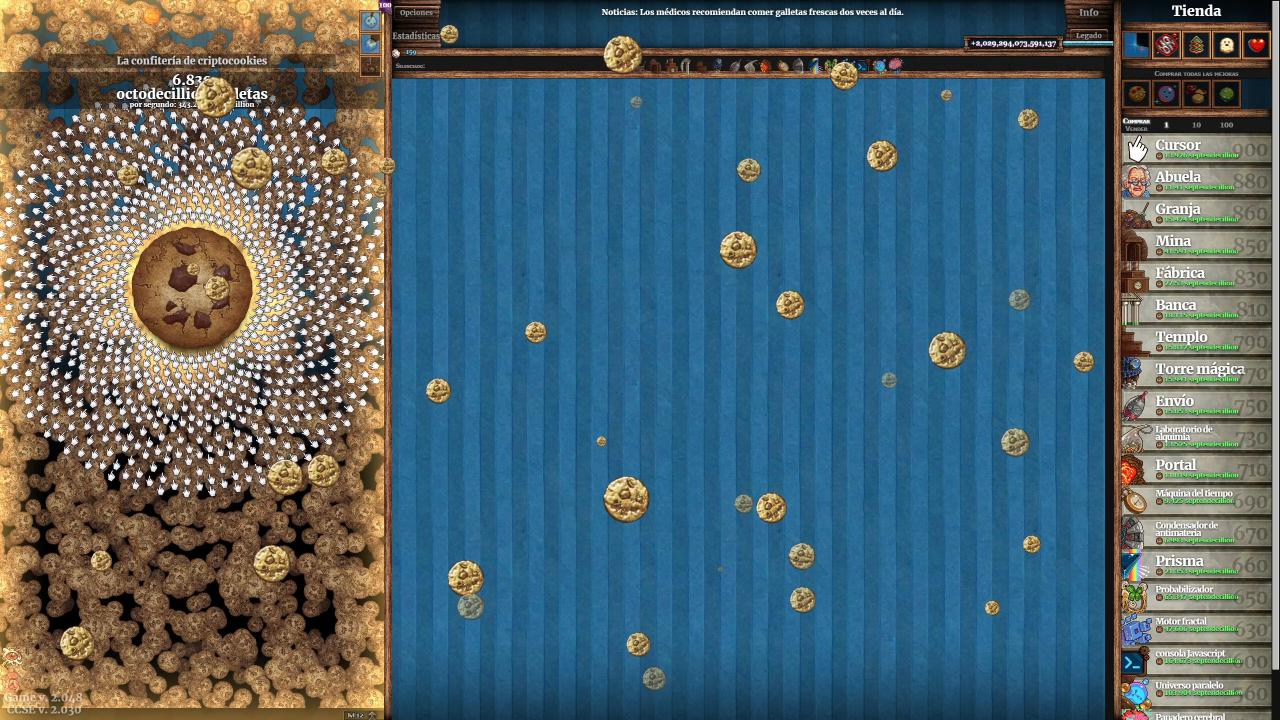GoldenCookie: (601, 474, 652, 524), (229, 146, 275, 193), (194, 76, 237, 119), (252, 542, 293, 585), (718, 229, 759, 272), (926, 330, 968, 371), (602, 35, 644, 75), (58, 623, 96, 662), (266, 458, 304, 497), (446, 559, 485, 597), (306, 453, 342, 488), (866, 138, 900, 173), (755, 491, 789, 525), (774, 288, 806, 322), (1000, 425, 1032, 459), (829, 60, 861, 93), (788, 584, 818, 615), (320, 146, 350, 176), (456, 592, 486, 622), (734, 156, 764, 185), (788, 541, 816, 572), (424, 376, 452, 405), (625, 630, 652, 659), (204, 274, 231, 302), (641, 665, 668, 692), (524, 320, 549, 346), (1008, 287, 1034, 312), (1016, 107, 1040, 132), (116, 163, 140, 187), (438, 22, 462, 46), (90, 548, 113, 573), (1073, 350, 1096, 374), (733, 492, 755, 515), (1022, 534, 1042, 555), (378, 156, 397, 176), (983, 598, 1002, 617), (881, 370, 899, 390), (372, 182, 390, 198), (938, 86, 954, 103), (186, 262, 202, 276), (630, 94, 644, 109), (595, 434, 608, 448)
